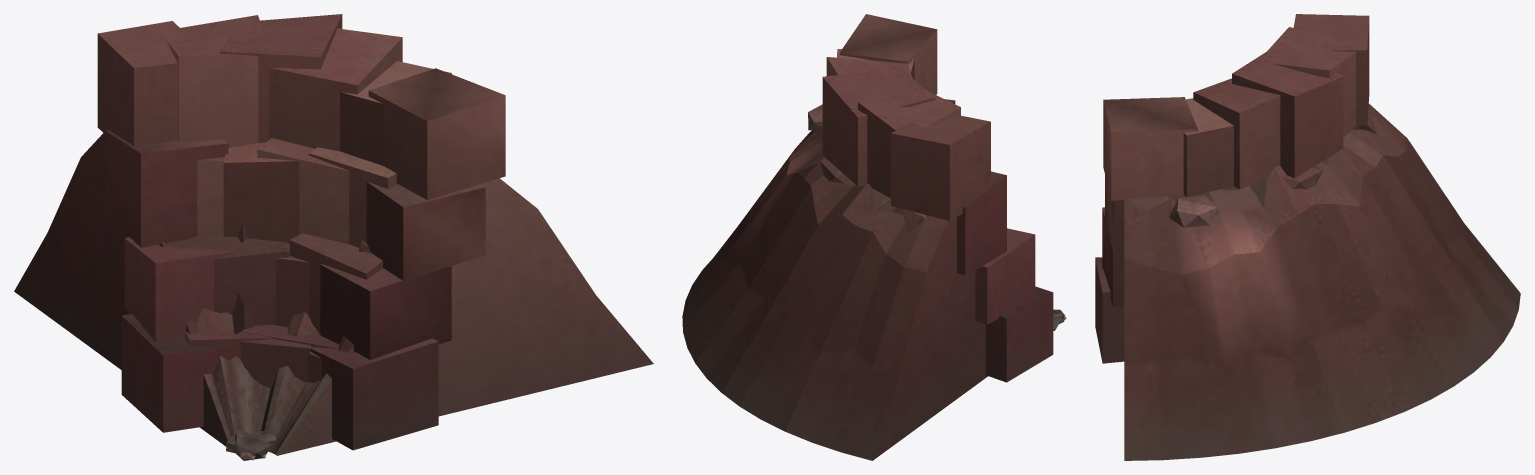
File: cliff-fulgora-inner.glb
3 views of the same model, side by side, from view 1: azimuth 30°, elevation 25°; view 2: azimuth 150°, elevation 25°; view 3: azimuth 270°, elevation 25° (orthographic). The views are drawn at different scales.
Parts seen in each view (by area): view 1: cliff-fulgora-inner; view 2: cliff-fulgora-inner; view 3: cliff-fulgora-inner.
Boxes of the visible parts, x1=… form: cliff-fulgora-inner: x1=14, y1=14, x2=653, y2=460; cliff-fulgora-inner: x1=682, y1=14, x2=1066, y2=460; cliff-fulgora-inner: x1=1095, y1=14, x2=1520, y2=460.
Size of the model in its own units: 3.82 by 2.71 by 3.76.
2 materials, 2 textured.
